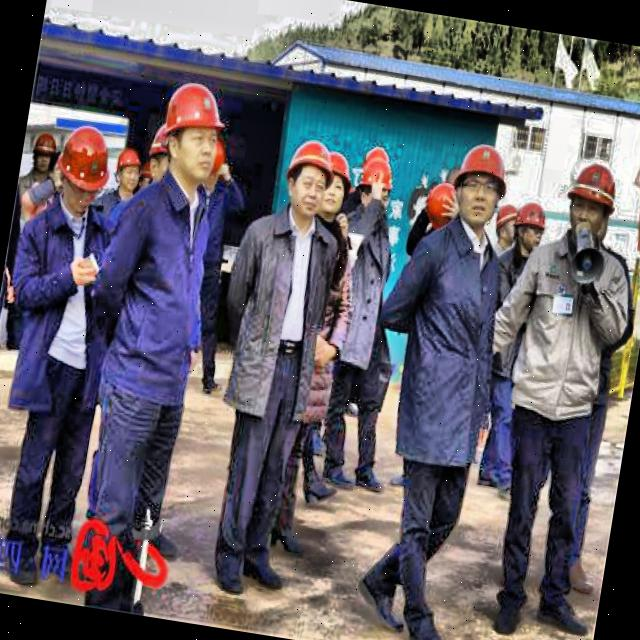helmet: (154, 76, 228, 184), (48, 119, 117, 226), (448, 134, 514, 240), (275, 130, 336, 233), (557, 155, 621, 248), (351, 152, 402, 222), (140, 120, 182, 198), (314, 148, 356, 222), (508, 196, 553, 260), (109, 143, 145, 201), (486, 198, 522, 254), (198, 134, 228, 198), (26, 126, 61, 175)
